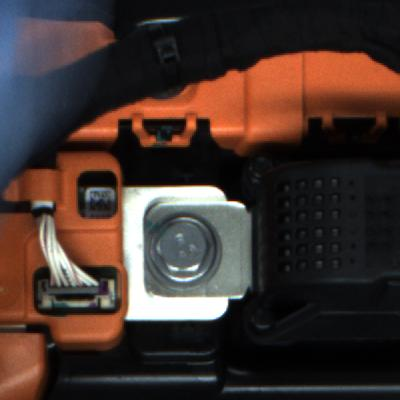nut_b: (141, 210, 228, 300)
